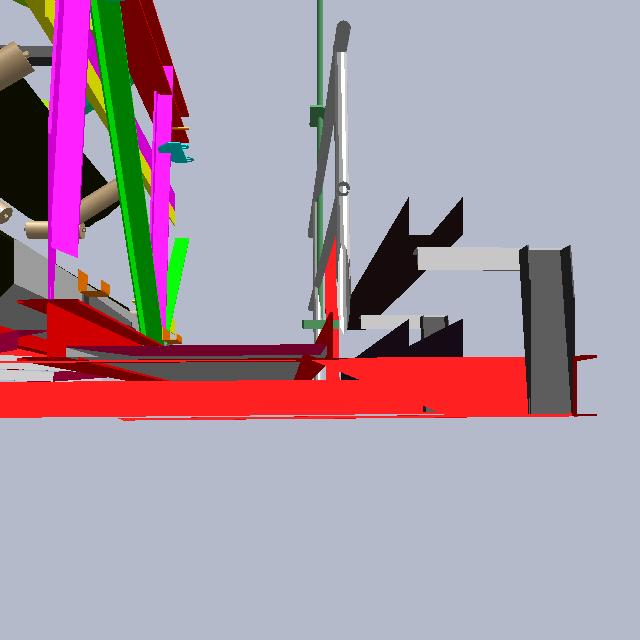Poste: (310, 1, 327, 339)
